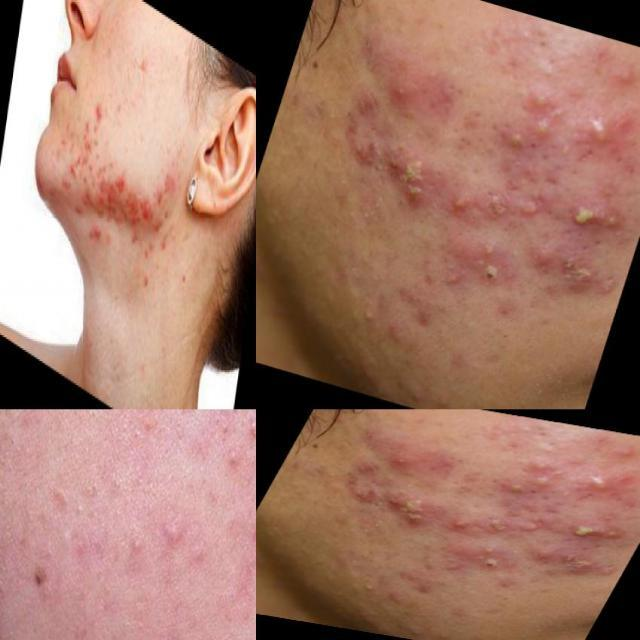Pimples: (372, 140, 447, 216), (98, 158, 144, 244), (581, 45, 640, 107), (449, 186, 522, 236), (562, 196, 632, 248), (367, 64, 428, 120), (372, 488, 447, 530), (561, 255, 609, 307), (230, 486, 256, 572), (581, 435, 640, 470), (449, 514, 522, 542), (562, 520, 632, 549), (367, 445, 428, 477), (64, 120, 95, 182), (344, 301, 386, 343), (527, 242, 563, 284), (561, 553, 609, 583), (137, 186, 162, 240), (237, 491, 256, 556), (344, 579, 386, 603), (86, 93, 108, 135), (527, 545, 563, 569), (582, 120, 608, 148), (522, 88, 550, 114), (474, 234, 500, 262), (496, 132, 523, 158), (527, 118, 548, 148), (474, 541, 500, 557), (522, 459, 550, 473), (582, 477, 608, 492), (496, 484, 523, 498), (527, 476, 548, 492)
